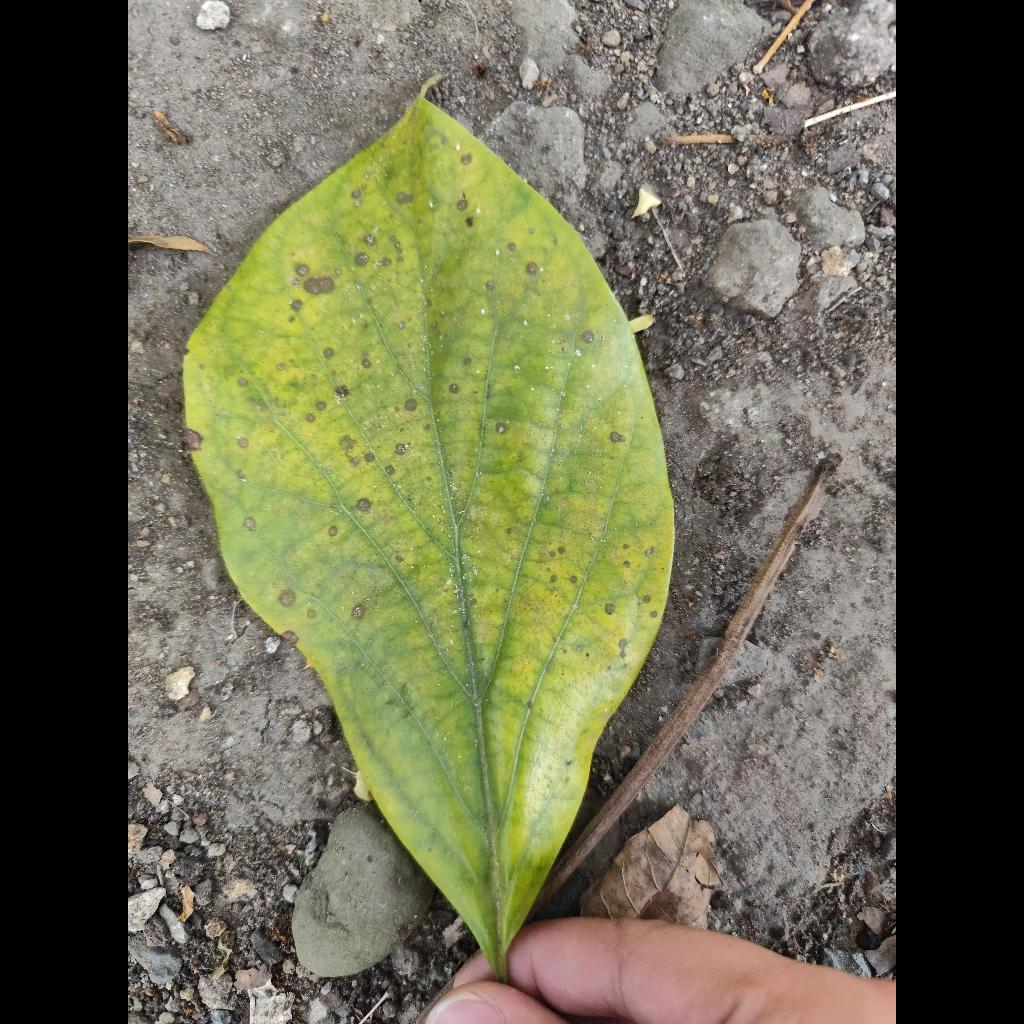deficiencia_nutricional: (184, 95, 673, 974)
